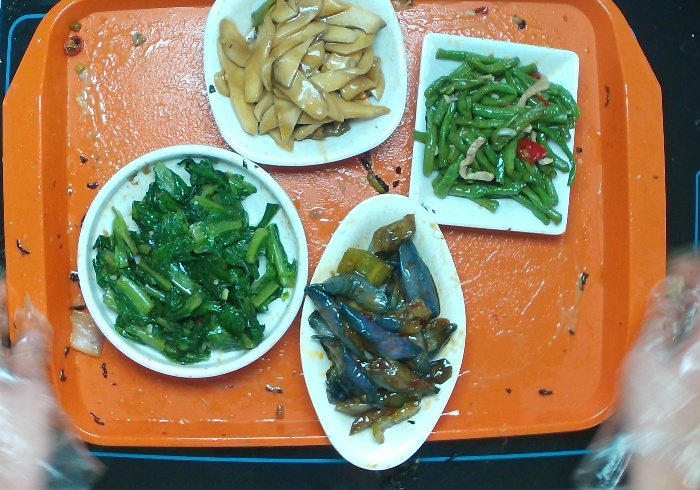HZYJPL-Si_Fang_Die: (406, 29, 594, 252)
HZYJPL-Si_Fang_Yuan_Die: (193, 1, 417, 166)
HZYJPL-Xiao_Yu_Die: (292, 190, 465, 482)
HZYJPL-Xiao_Yuan_Die: (71, 141, 313, 384)
